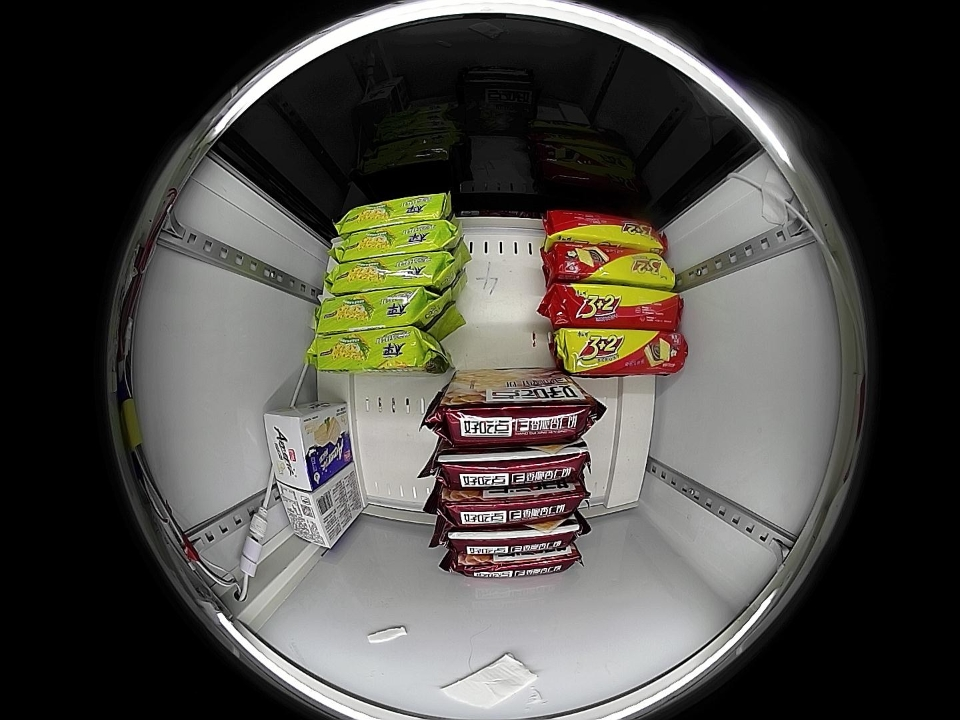3jia2: (555, 328, 686, 377), (551, 285, 682, 329), (550, 245, 676, 287), (544, 211, 667, 252)
haochidian: (432, 383, 606, 444), (434, 445, 593, 486), (434, 486, 591, 524), (437, 549, 587, 580), (439, 521, 587, 552)
meiniye: (265, 408, 329, 491), (276, 481, 341, 548)
taipingshuda: (312, 328, 427, 374), (314, 289, 431, 333), (338, 192, 453, 234), (328, 253, 448, 293), (332, 222, 455, 260)
